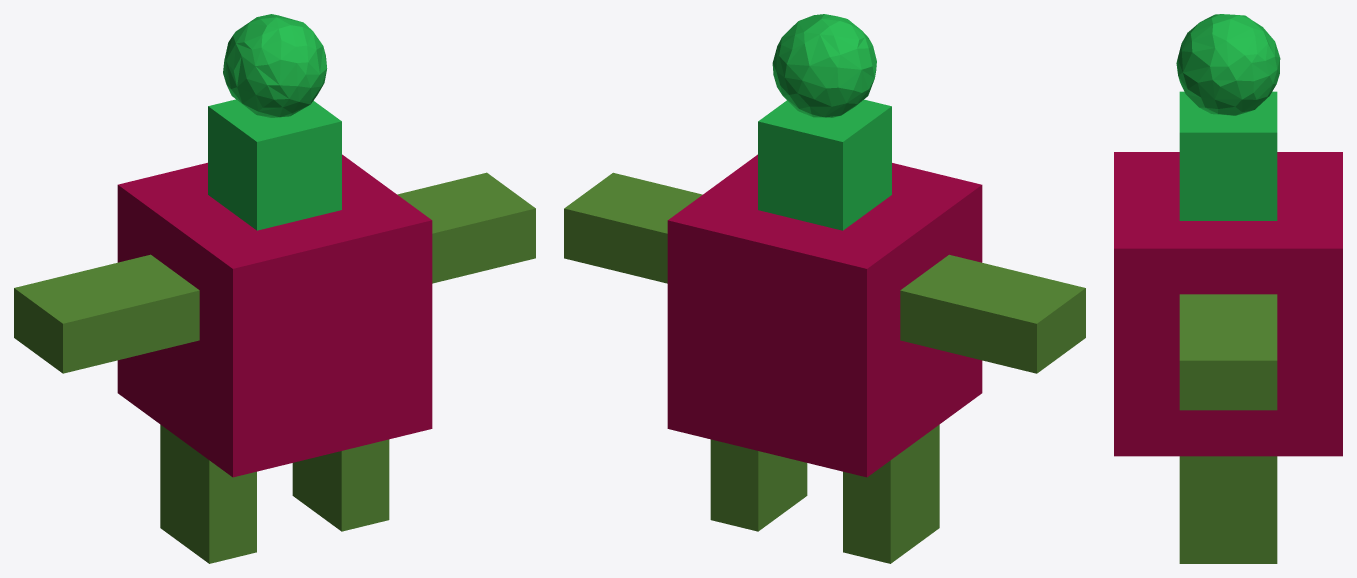
File: myperson.gltf
The picture shows the model from 3 angles, left to right: view 1: azimuth 30°, elevation 25°; view 2: azimuth 150°, elevation 25°; view 3: azimuth 270°, elevation 25°; orthographic projection.
Visible parts, largest first — view 1: Mesh_1, Mesh_4, Mesh_0, Mesh_3, Mesh_5, Mesh_7, Mesh_6; view 2: Mesh_1, Mesh_4, Mesh_0, Mesh_3, Mesh_5, Mesh_7, Mesh_6; view 3: Mesh_1, Mesh_3, Mesh_0, Mesh_6, Mesh_7.
Part boxes in pixels (x1,y1,x2,y2): Mesh_1: (117,154,432,477); Mesh_4: (14,254,199,373); Mesh_0: (208,99,341,230); Mesh_3: (397,172,535,283); Mesh_5: (160,424,256,563); Mesh_7: (223,14,327,117); Mesh_6: (292,439,389,531); Mesh_1: (667,154,982,477); Mesh_4: (900,254,1085,373); Mesh_0: (758,99,891,230); Mesh_3: (564,172,702,283); Mesh_5: (843,424,939,563); Mesh_7: (772,14,876,117); Mesh_6: (710,439,807,531); Mesh_1: (1114,152,1342,456); Mesh_3: (1179,294,1277,410); Mesh_0: (1179,91,1277,220); Mesh_6: (1179,456,1277,563); Mesh_7: (1176,14,1280,115).
Size of the model in its own units: 25.46 by 26 by 10.73.
